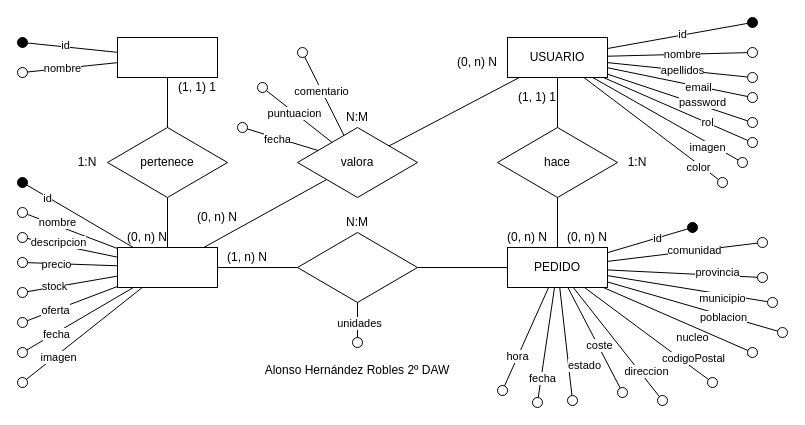
The diagram is 805 pixels wide and 425 high, and some of its shapes have lost their labels. The centre of each missing label's shape, as x and y in pixels:
"CATEGORIA" belongs at (x=167, y=57).
"esta_en" belongs at (x=357, y=267).
"PRODUCTO" belongs at (x=167, y=267).
